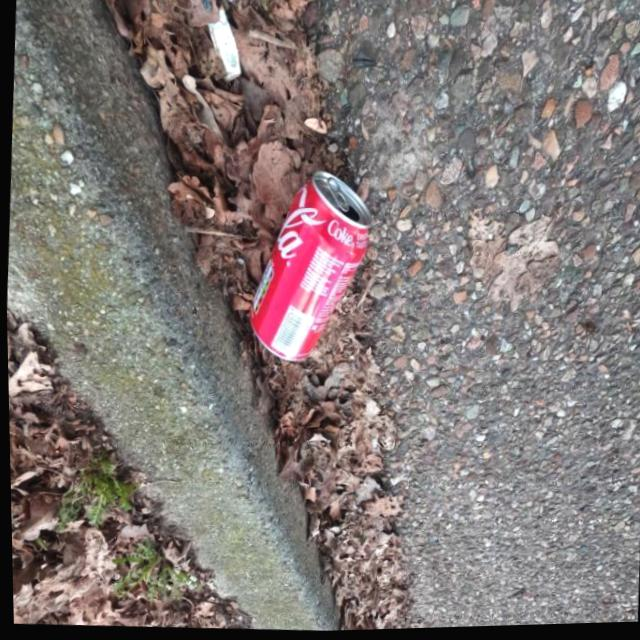Can-Metal: (239, 163, 378, 375)
